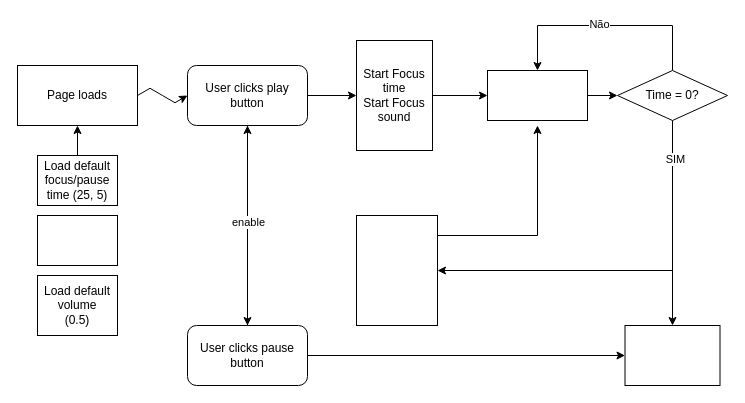
The diagram is 745 pixels wide and 403 high, and some of its shapes have lost their labels. Each missing label, with the box of its shape:
Load default sound (Lofi): (36, 214, 118, 266)
Refresh study total time: (624, 324, 720, 386)
Start Break time Stop sound: (356, 214, 438, 326)
Time -= 1: (486, 70, 588, 120)
